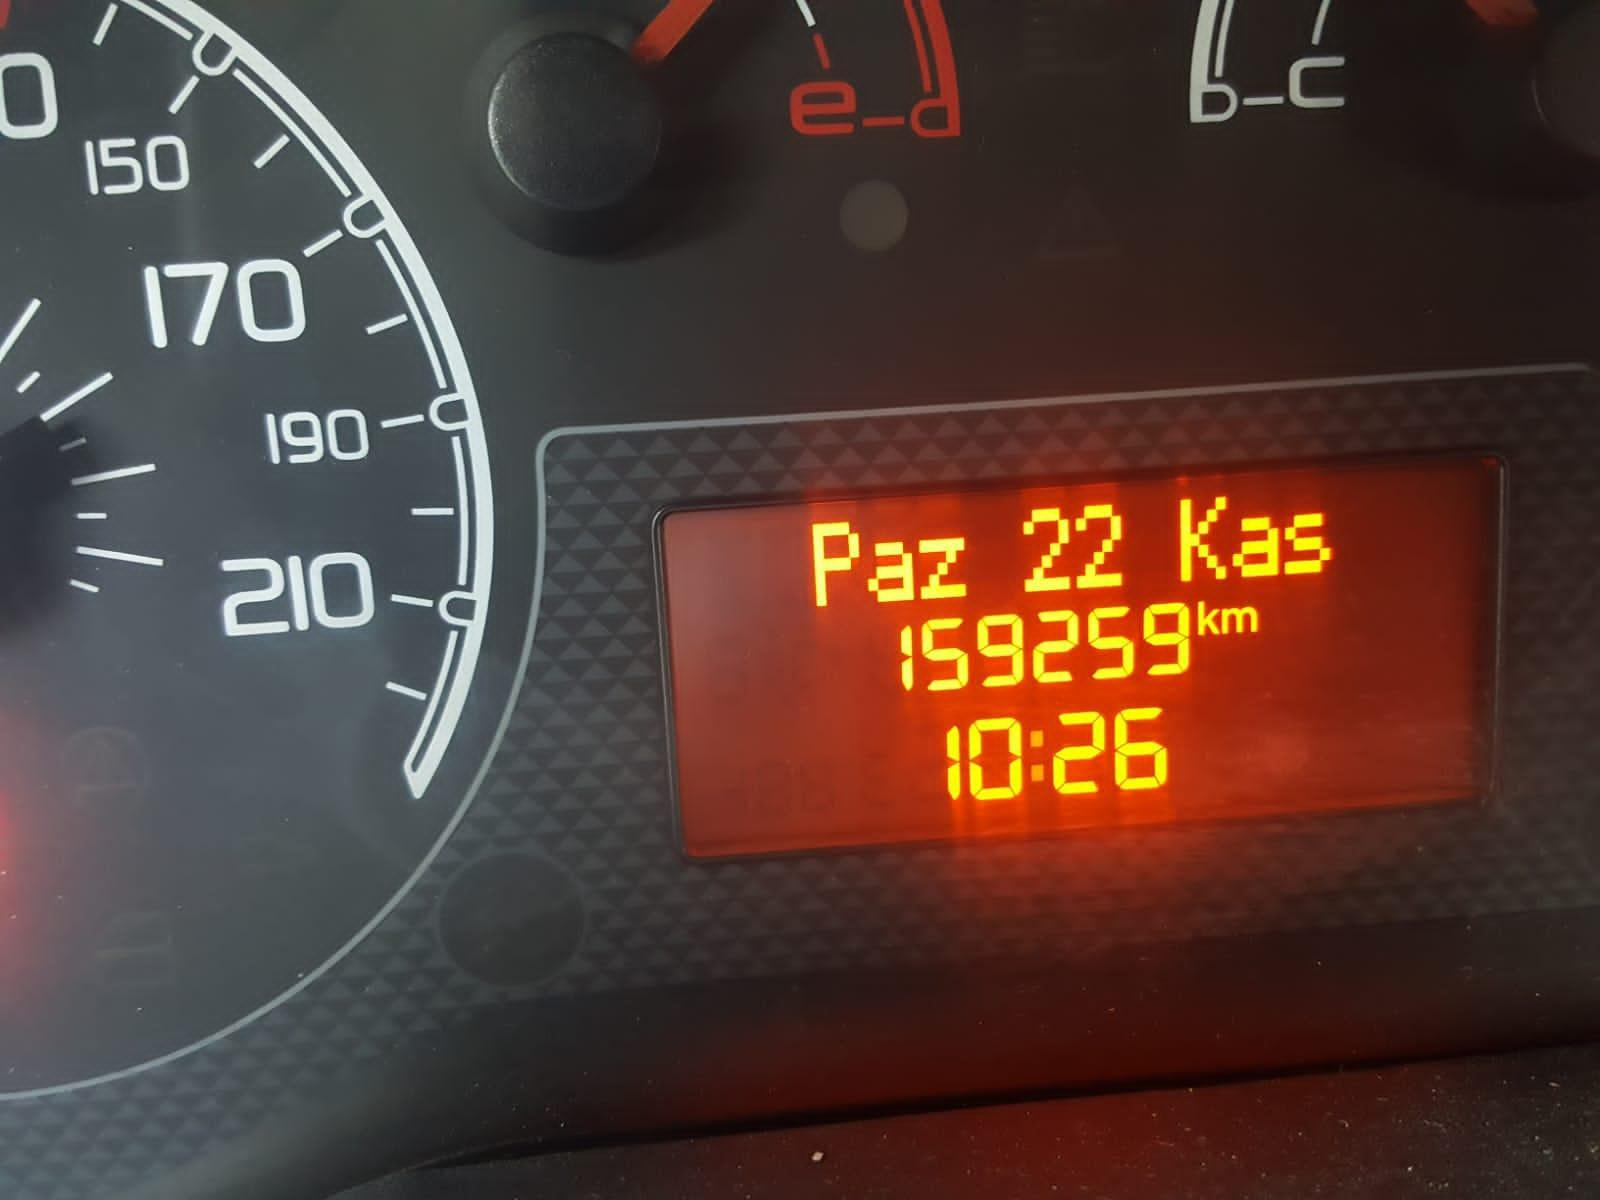0: (966, 716, 1026, 802)
1: (941, 722, 963, 800), (897, 621, 917, 693)
2: (1052, 708, 1107, 795), (1075, 500, 1124, 590), (1022, 505, 1072, 592), (1031, 608, 1082, 684)
5: (921, 615, 971, 695), (1086, 604, 1136, 681)
6: (1112, 705, 1170, 792)
9: (973, 613, 1027, 689), (1141, 601, 1192, 677)
X: (1175, 494, 1230, 584), (809, 521, 862, 610), (1283, 508, 1335, 579), (916, 534, 969, 603), (1233, 513, 1281, 580), (866, 539, 915, 604), (1220, 604, 1260, 635), (1026, 725, 1046, 785), (1194, 597, 1220, 637)
odometer: (645, 440, 1512, 867)
